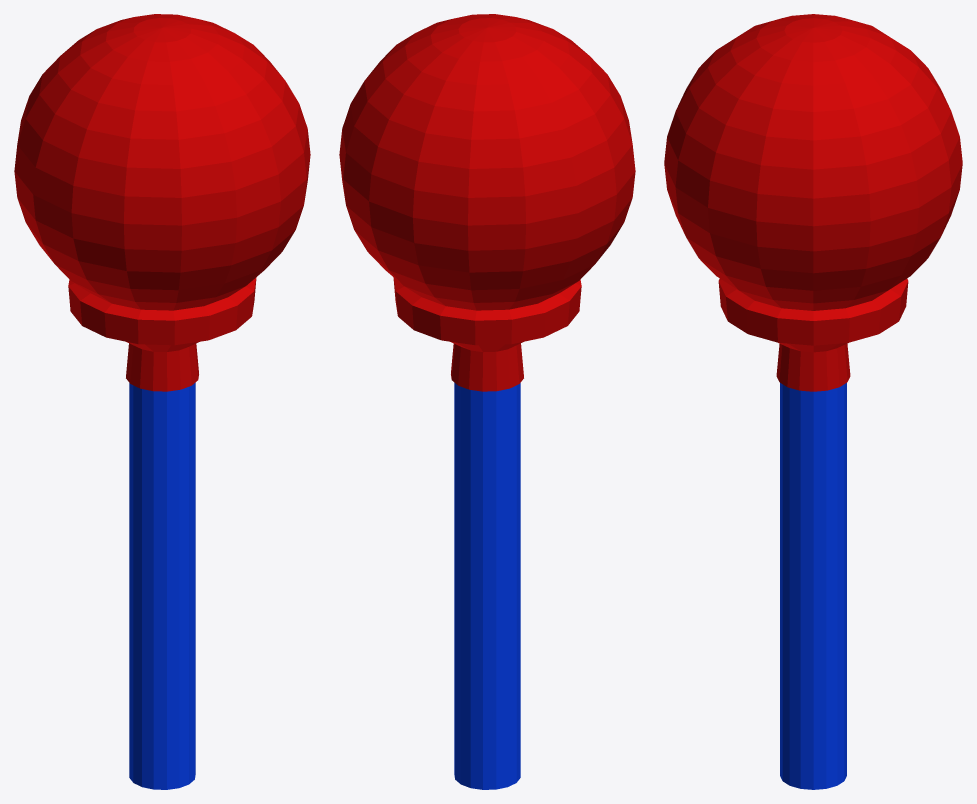
The model's file is bounce platform.fbx.
The picture shows the model from 3 angles, left to right: view 1: azimuth 30°, elevation 25°; view 2: azimuth 150°, elevation 25°; view 3: azimuth 270°, elevation 25°; orthographic projection.
Visible parts, largest first — view 1: Cylinder; view 2: Cylinder; view 3: Cylinder.
Part boxes in pixels (<box>): Cylinder: <box>14,14,310,789</box>; Cylinder: <box>339,14,635,789</box>; Cylinder: <box>664,14,962,789</box>.
Size of the model in its own units: 2 by 5.52 by 2.
